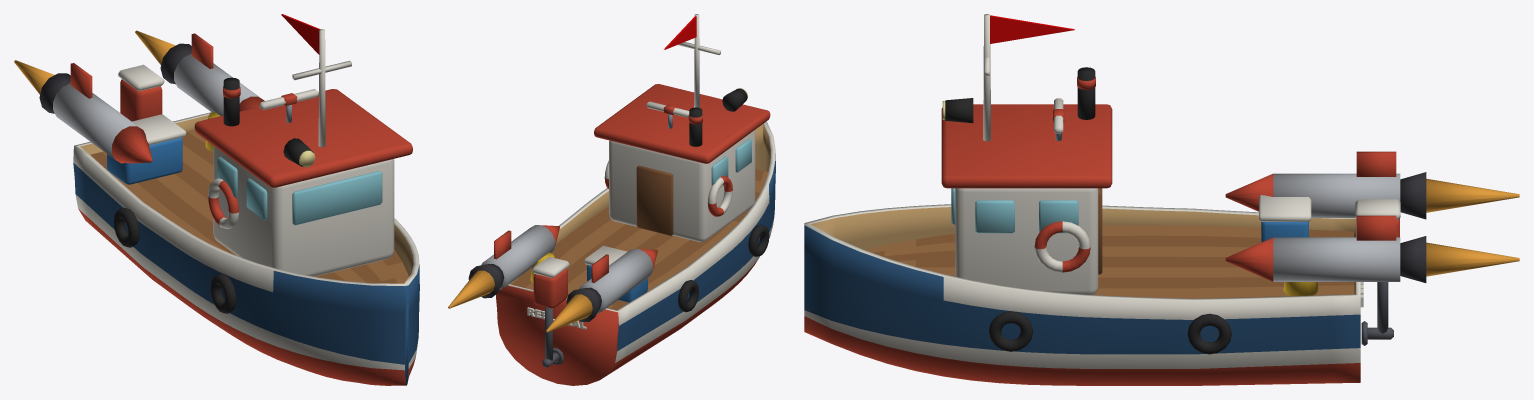
The model's file is boat.glb.
3 renders of one model, left to right at view 1: azimuth 30°, elevation 25°; view 2: azimuth 150°, elevation 25°; view 3: azimuth 270°, elevation 25°, orthographic. The views are drawn at different scales.
Parts seen in each view (by area): view 1: Boat, Rockets, Motor, Flame, Radar, Lamp, Flag; view 2: Boat, Rockets, Motor, Flame, Lamp, Radar, Flag; view 3: Boat, Rockets, Flame, Motor, Flag, Lamp.
Boxes of the visible parts, x1,y1,x2,y2 form: Boat: (73, 29, 419, 385); Rockets: (39, 33, 264, 163); Motor: (118, 64, 164, 121); Flame: (14, 30, 175, 94); Radar: (259, 89, 318, 122); Lamp: (283, 138, 315, 167); Flag: (281, 14, 320, 54); Boat: (496, 14, 775, 385); Rockets: (468, 225, 657, 321); Motor: (532, 256, 569, 367); Flame: (448, 270, 592, 332); Lamp: (722, 88, 747, 111); Radar: (646, 101, 689, 128); Flag: (664, 16, 696, 49); Boat: (804, 14, 1363, 385); Rockets: (1225, 151, 1426, 282); Flame: (1426, 178, 1519, 276); Motor: (1355, 199, 1400, 345); Flag: (990, 15, 1074, 43); Lamp: (942, 98, 973, 123).
Size of the model in its own units: 3.06 by 4.95 by 9.
